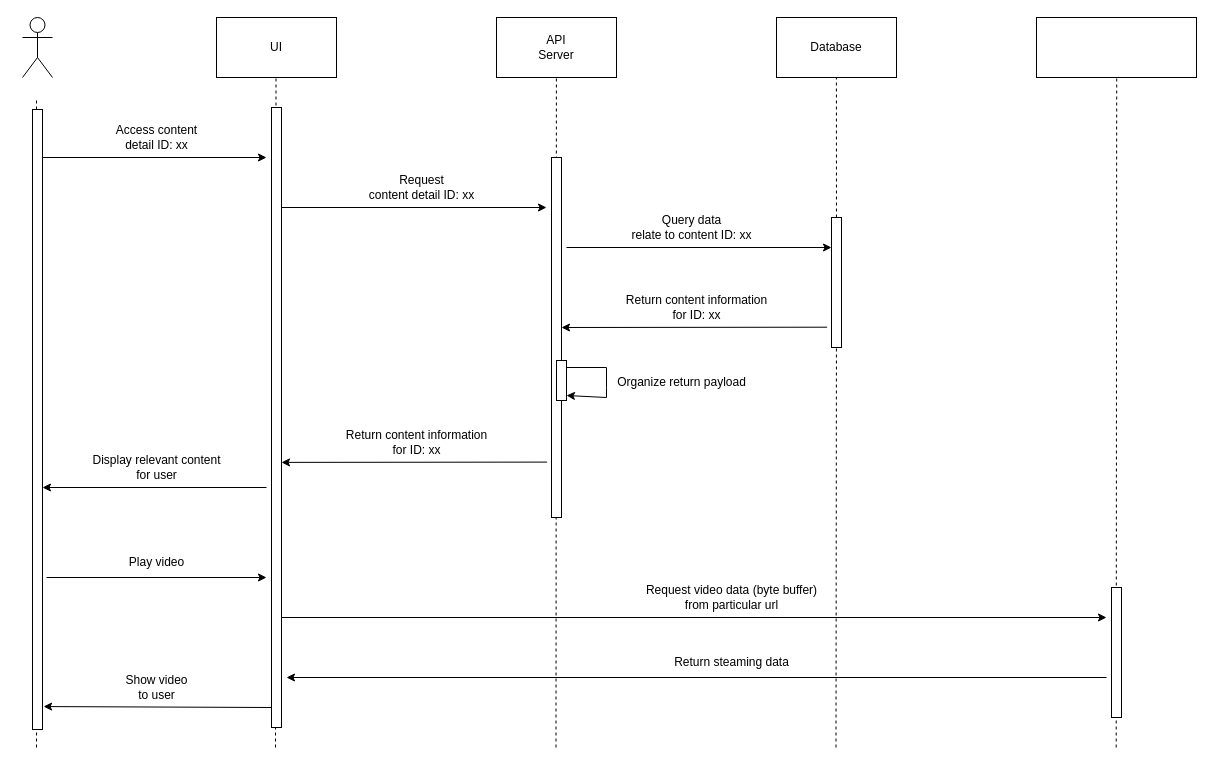
Image size: 1214x766. Some labels were removed from this diagram. The centre of each missing label's shape, as x and y in pixels:
CDN (Content Delivery Network): the point at 1116,47
Student: the point at 37,47
